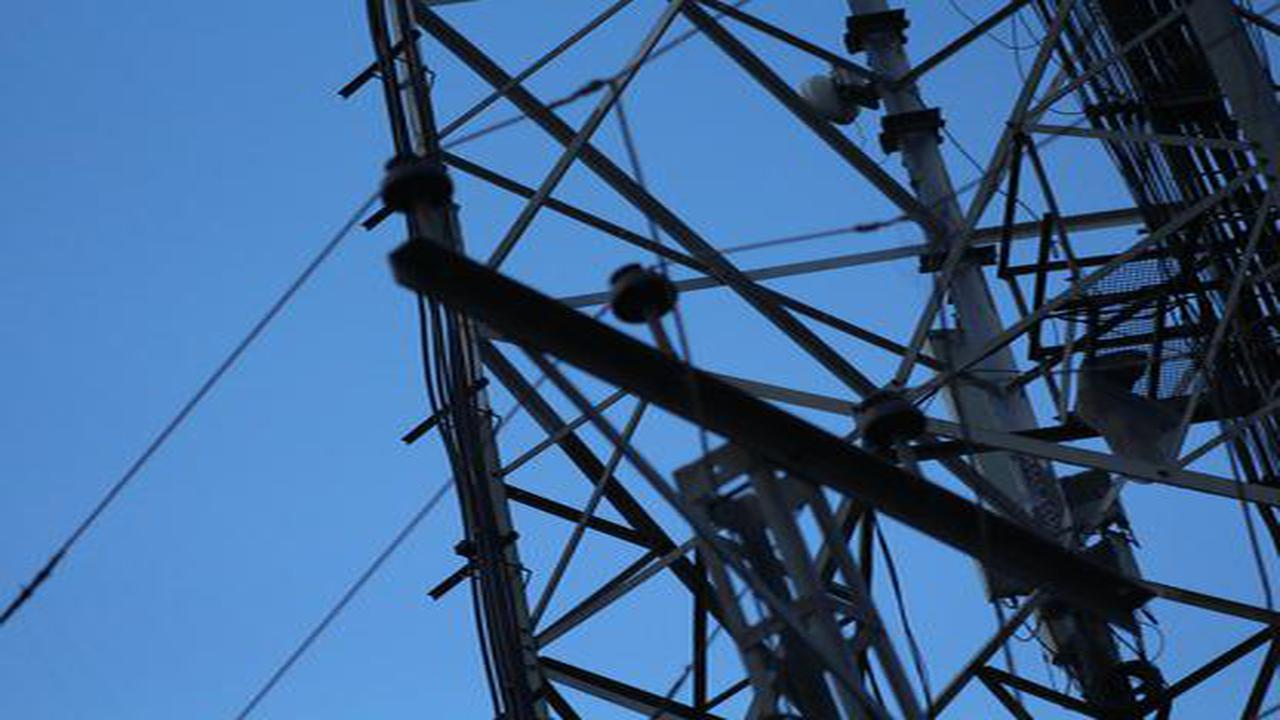insulator_pin: (603, 254, 684, 329), (851, 384, 930, 451), (377, 149, 456, 212)
